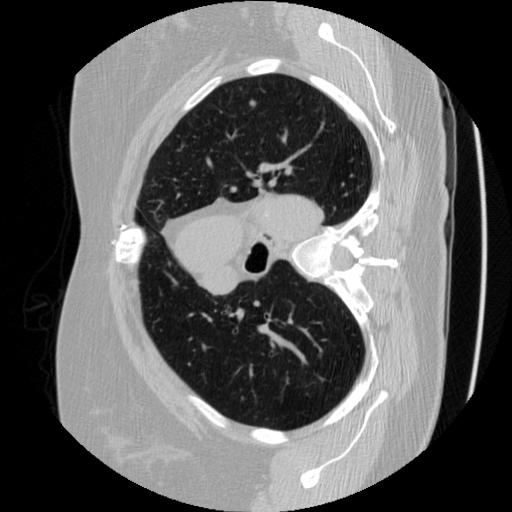nodule: (248, 99, 259, 110)
